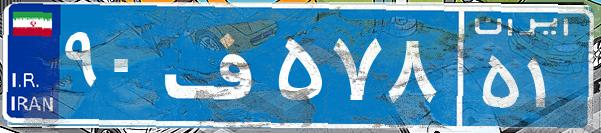0: (110, 28, 158, 105)
1: (525, 38, 570, 115)
5: (273, 28, 330, 110), (475, 38, 525, 113)
7: (330, 28, 385, 110)
8: (385, 28, 445, 110)
9: (57, 26, 110, 107)
ف: (158, 15, 273, 115)
